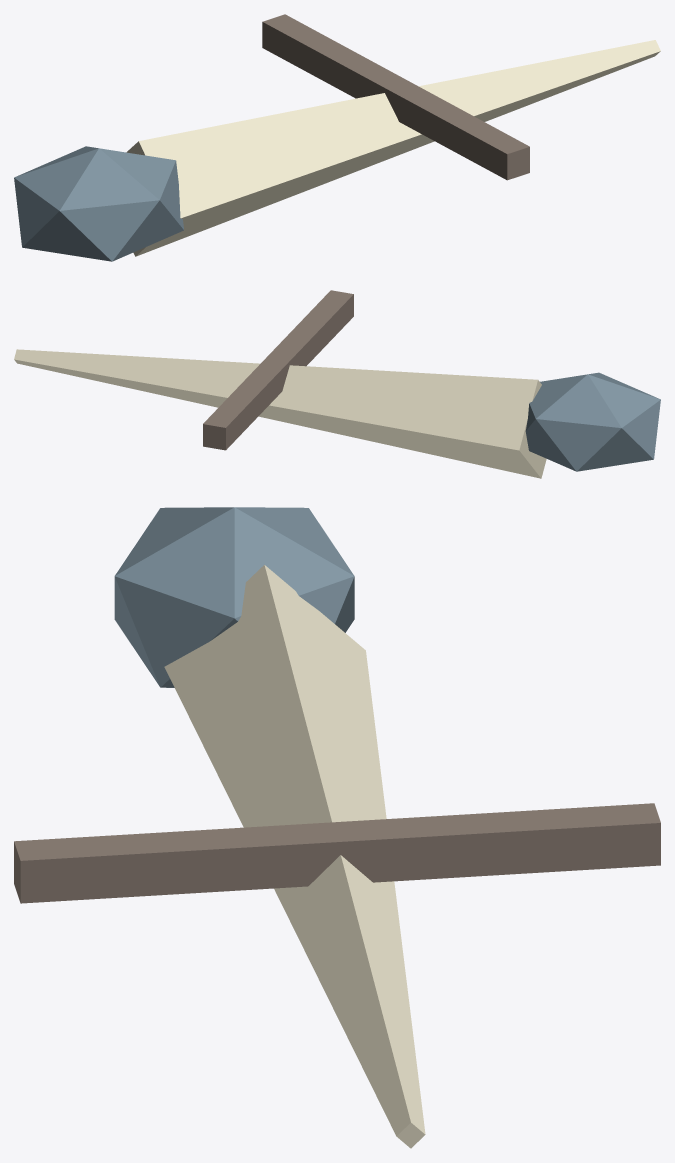
The model's file is enemy_fen_stalker_fragment_bill.glb.
3 renders of one model, top to bottom at view 1: azimuth 30°, elevation 25°; view 2: azimuth 150°, elevation 25°; view 3: azimuth 270°, elevation 25°, orthographic. The views are drawn at different scales.
Visible parts, largest first — view 1: Fragment_Bill, Fragment_Bill_Skull, Fragment_Bill_Ridge; view 2: Fragment_Bill, Fragment_Bill_Skull, Fragment_Bill_Ridge; view 3: Fragment_Bill, Fragment_Bill_Ridge, Fragment_Bill_Skull.
Boxes of the visible parts, box(x1,y1,x2,y2) form: Fragment_Bill: box(126, 40, 660, 256); Fragment_Bill_Skull: box(14, 146, 183, 261); Fragment_Bill_Ridge: box(262, 14, 529, 180); Fragment_Bill: box(14, 349, 546, 478); Fragment_Bill_Skull: box(525, 372, 660, 471); Fragment_Bill_Ridge: box(203, 290, 353, 450); Fragment_Bill: box(164, 565, 425, 1148); Fragment_Bill_Ridge: box(14, 803, 660, 903); Fragment_Bill_Skull: box(114, 507, 354, 687).
Size of the model in its own units: 0.4399 by 0.077 by 0.2201.
